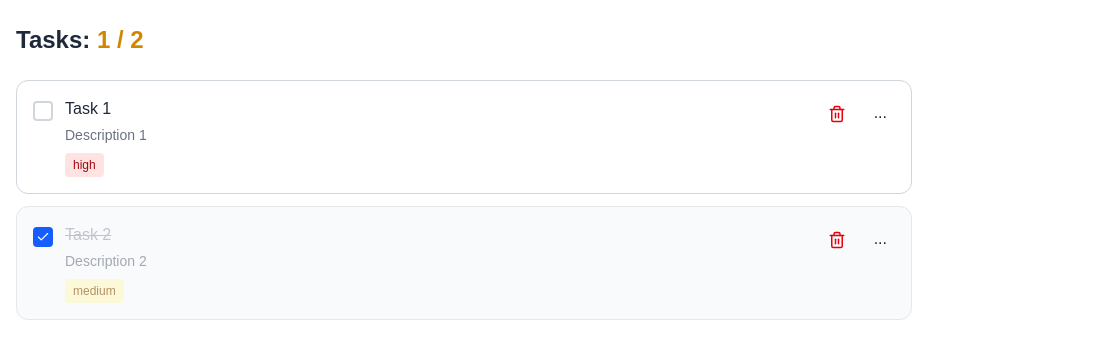
Test: TasksSection › Task Deletion › should delete task successfully
The image size is (1104, 337).
Check: the heading "Task 1" is shown, box [65,100,111,117]
Click the button named "Delete task" in the row of "Description 1" at (837, 114), box [820,97,854,131]
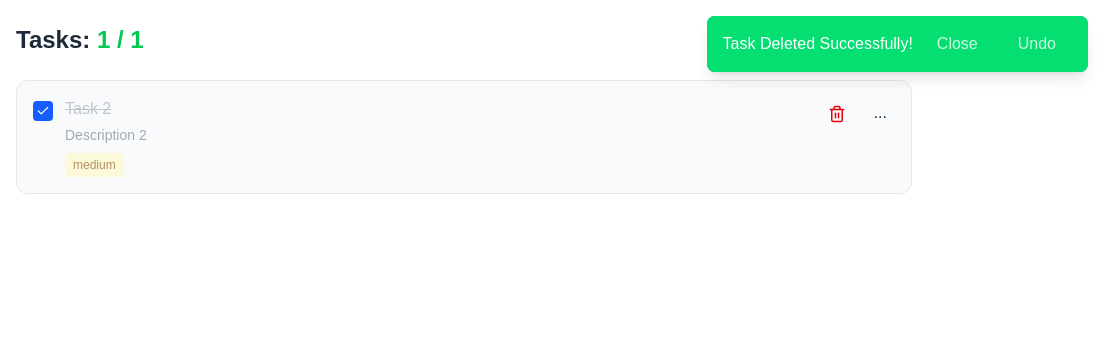
Check: the text "Task Deleted Successfully!" is shown, box [722,35,913,52]
Check: the heading "Task 1" is gone
